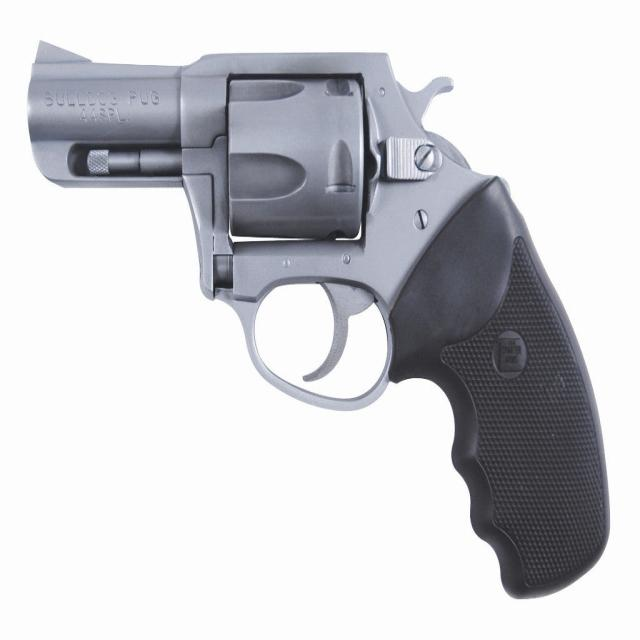Gun: (11, 24, 612, 614)
